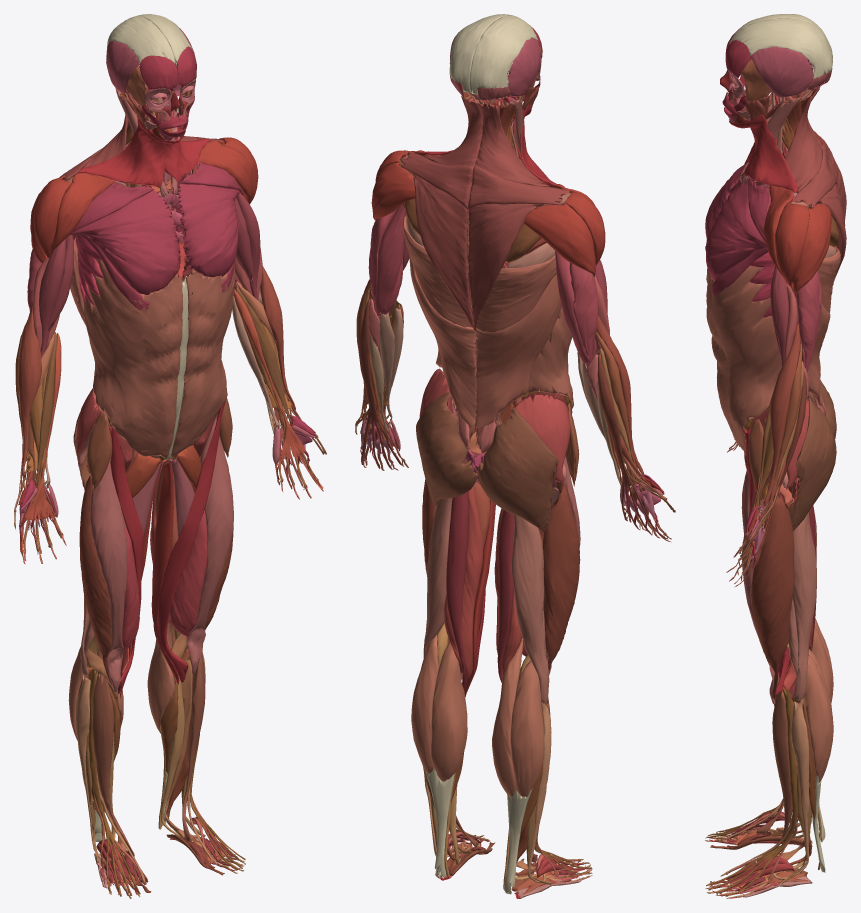
Rendered from muscles.glb.
3 views of the same model, side by side, from view 1: azimuth 30°, elevation 25°; view 2: azimuth 150°, elevation 25°; view 3: azimuth 270°, elevation 25° (orthographic). The views are drawn at different scales.
Visible parts, largest first — view 1: external-oblique, pectoralis-major, rectus-femoris, deltoid, sartorius, platysma, biceps-brachii, tibialis-anterior, vastus-medialis, vastus-lateralis, brachioradialis, gracilis (+29 smaller); view 2: trapezius, latissimus-dorsi, gastrocnemius, gluteus-maximus, biceps-femoris, deltoid, triceps-brachii, vastus-lateralis, semitendinosus, epicranial-aponeurosis, semimembranosus, extensor-digitorum (+21 smaller); view 3: external-oblique, pectoralis-major, vastus-lateralis, deltoid, trapezius, gluteus-maximus, biceps-femoris, epicranial-aponeurosis, gastrocnemius, temporoparietalis, platysma, brachioradialis (+35 smaller).
Boxes of the visible parts, <box> form: external-oblique: <box>83,260,235,458</box>; pectoralis-major: <box>69,162,243,310</box>; rectus-femoris: <box>90,418,233,692</box>; deltoid: <box>30,137,258,263</box>; sartorius: <box>108,400,225,697</box>; platysma: <box>78,112,210,187</box>; biceps-brachii: <box>39,193,260,356</box>; tibialis-anterior: <box>92,649,205,856</box>; vastus-medialis: <box>122,510,207,658</box>; vastus-lateralis: <box>79,475,233,685</box>; brachioradialis: <box>19,266,295,477</box>; gracilis: <box>120,459,179,697</box>; trapezius: <box>400,97,569,331</box>; latissimus-dorsi: <box>403,216,561,428</box>; gastrocnemius: <box>411,634,544,797</box>; gluteus-maximus: <box>416,391,558,532</box>; biceps-femoris: <box>423,498,549,704</box>; deltoid: <box>371,150,605,277</box>; triceps-brachii: <box>368,204,598,366</box>; vastus-lateralis: <box>422,479,580,671</box>; semitendinosus: <box>446,492,514,692</box>; epicranial-aponeurosis: <box>449,14,538,94</box>; semimembranosus: <box>444,486,522,682</box>; extensor-digitorum: <box>358,298,666,538</box>; external-oblique: <box>706,266,781,451</box>; pectoralis-major: <box>705,165,770,296</box>; vastus-lateralis: <box>751,495,794,698</box>; deltoid: <box>763,130,831,294</box>; trapezius: <box>785,86,846,276</box>; gluteus-maximus: <box>789,380,836,530</box>; biceps-femoris: <box>788,512,816,701</box>; epicranial-aponeurosis: <box>729,14,832,78</box>; gastrocnemius: <box>805,619,833,782</box>; temporoparietalis: <box>750,46,813,97</box>; platysma: <box>729,114,797,192</box>; brachioradialis: <box>763,321,800,507</box>.
Size of the model in its own units: 2.56 by 6.59 by 1.
